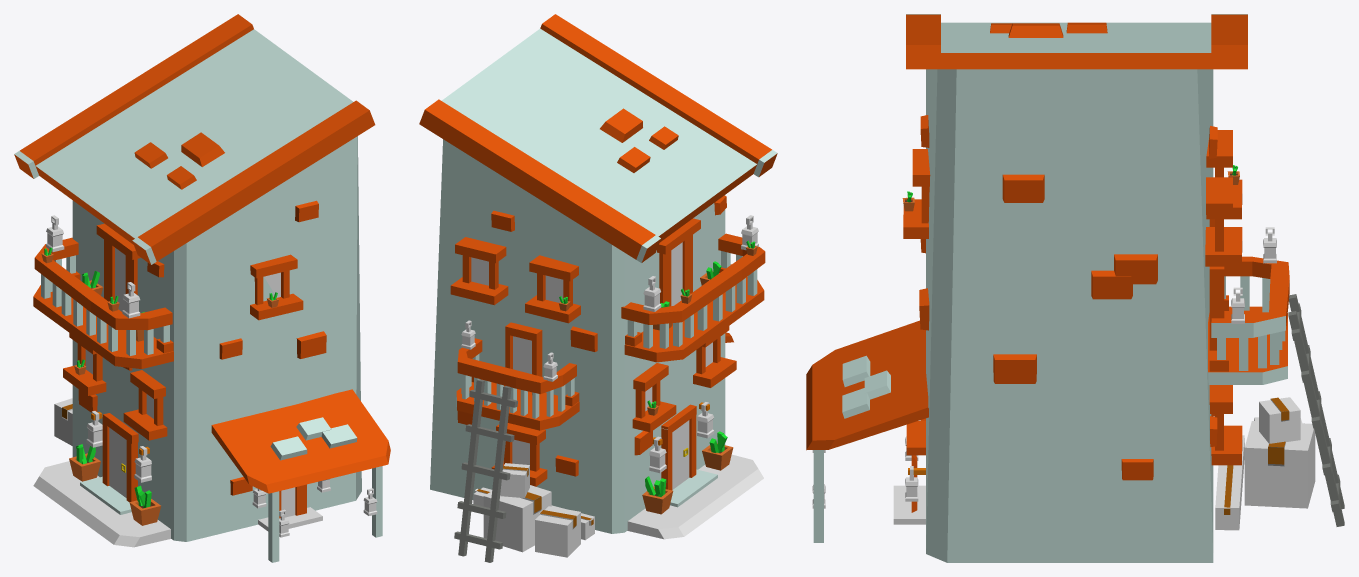
The model's file is building modified.fbx.
3 renders of one model, left to right at view 1: azimuth 30°, elevation 25°; view 2: azimuth 150°, elevation 25°; view 3: azimuth 270°, elevation 25°, orthographic. The views are drawn at different scales.
Visible parts, largest first — view 1: Building, Cube.005, Cube.006, box, lamp.004, lamp.005, lamp; view 2: Building, ladder, box.001, box, box.002, Cube.006, Cube.005, box.003, lamp.005, lamp, lamp.001; view 3: Building, box.001, ladder, box.003, box.002.
Part boxes in pixels (x1,y1,x2,y2): Building: (14, 14, 390, 562); Cube.005: (129, 485, 160, 525); Cube.006: (69, 444, 100, 481); box: (54, 398, 72, 445); lamp.004: (122, 282, 140, 318); lamp.005: (46, 215, 64, 252); lamp: (134, 446, 151, 482); Building: (419, 14, 777, 539); ladder: (454, 379, 517, 562); box.001: (483, 485, 551, 552); box: (535, 506, 580, 557); box.002: (500, 463, 529, 498); Cube.006: (642, 476, 673, 514); Cube.005: (702, 431, 733, 470); box.003: (473, 487, 594, 540); lamp.005: (643, 276, 661, 311); lamp: (697, 402, 714, 438); lamp.001: (649, 436, 666, 473); Building: (806, 14, 1289, 562); box.001: (1244, 421, 1315, 508); ladder: (1288, 294, 1344, 526); box.003: (1215, 435, 1244, 530); box.002: (1259, 397, 1300, 443).
Size of the model in its own units: 796 by 1259 by 1166.
